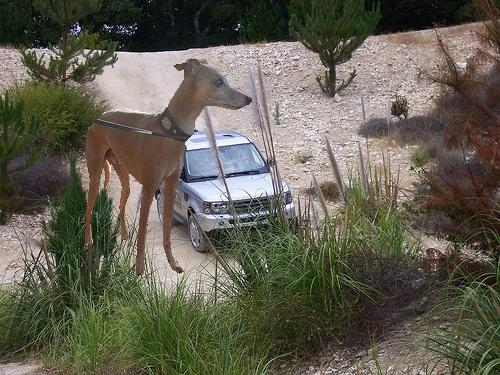tampered: (86, 60, 252, 276)
